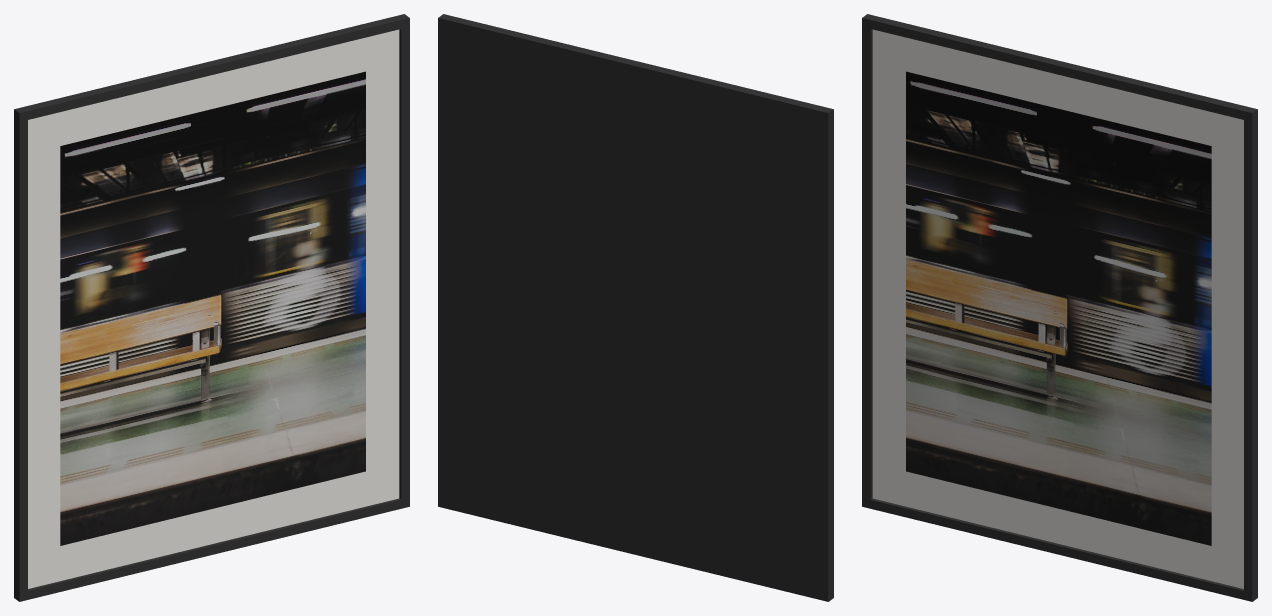
Rendered from perrongen-90.gltf.
3 views of the same model, side by side, from view 1: azimuth 30°, elevation 25°; view 2: azimuth 150°, elevation 25°; view 3: azimuth 330°, elevation 25° (orthographic).
Visible parts, largest first — view 1: tavla; view 2: tavla; view 3: tavla.
Part boxes in pixels (x1=…): tavla: x1=14, y1=14, x2=409, y2=601; tavla: x1=438, y1=14, x2=833, y2=601; tavla: x1=862, y1=14, x2=1257, y2=601.
Size of the model in its own units: 0.9194 by 1.1 by 0.022.
Materials: 3 (1 with a texture image).
